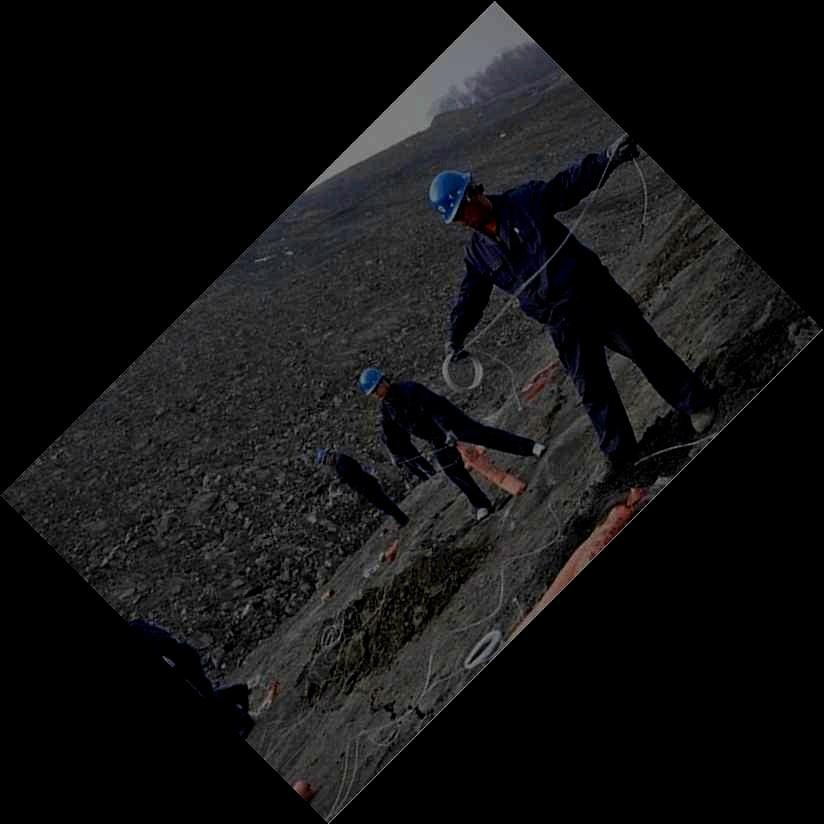helmet: (427, 170, 492, 229), (358, 367, 390, 401), (314, 448, 333, 467)
